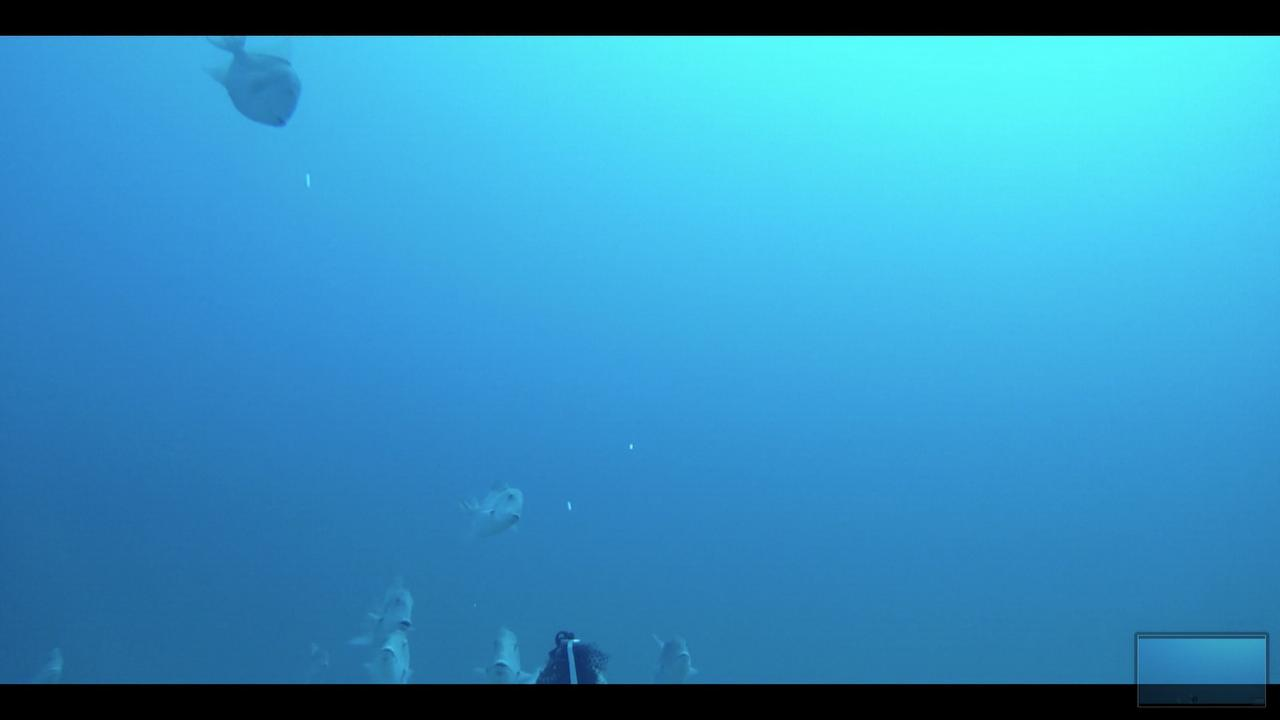balistes: (197, 36, 310, 134), (344, 572, 422, 646), (448, 476, 528, 546), (469, 619, 537, 682), (639, 628, 701, 682), (359, 620, 411, 682)
